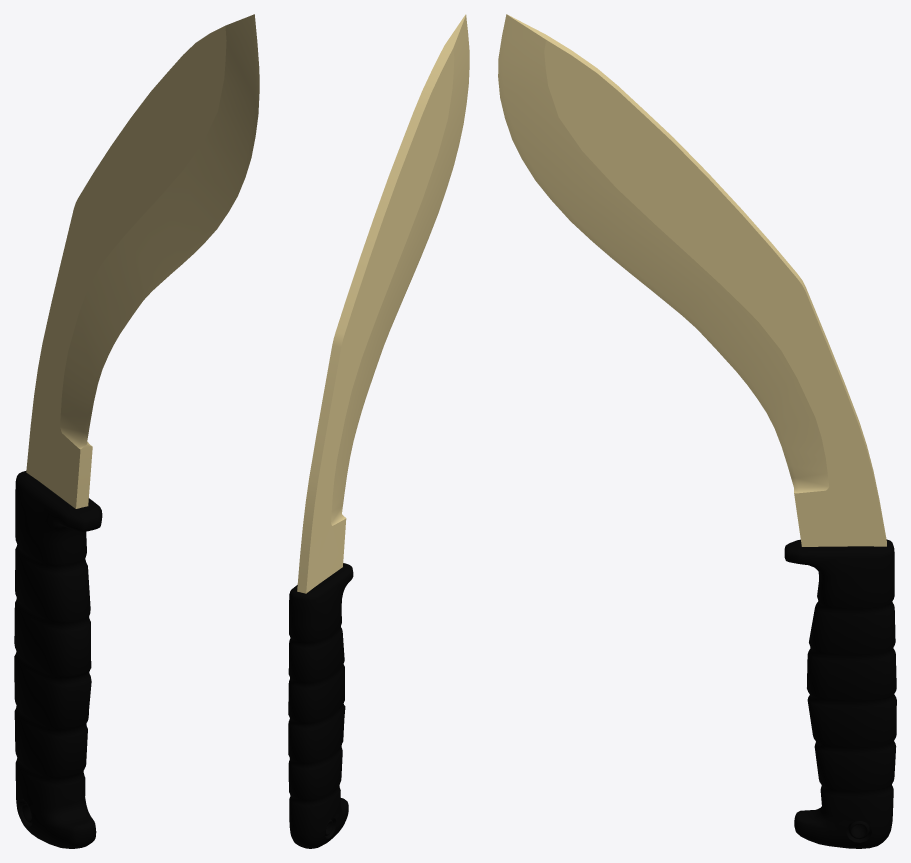
Rendered from Knife_03_Mesh.FBX.
The picture shows the model from 3 angles, left to right: view 1: azimuth 30°, elevation 25°; view 2: azimuth 150°, elevation 25°; view 3: azimuth 270°, elevation 25°; orthographic projection. The views are drawn at different scales.
Visible parts, largest first — view 1: Knife_03_Mesh; view 2: Knife_03_Mesh; view 3: Knife_03_Mesh.
Part boxes in pixels (<box>): Knife_03_Mesh: <box>14,14,259,848</box>; Knife_03_Mesh: <box>288,14,469,848</box>; Knife_03_Mesh: <box>498,14,896,848</box>.
Size of the model in its own units: 2.38 by 18.87 by 43.44.
